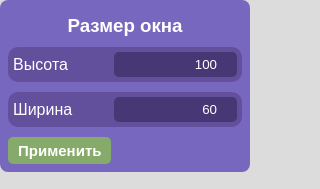
Test: Constructor: Size settings › another sizes can be applied - ui › apply new sizes
What coordinates should you click on to do the following:
click the button "Применить"
I would click on:
 (60, 150)
Its box is [8,137,112,164].
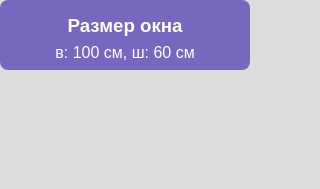
Result: the text "в: 100 см, ш: 60 см" is shown at [55,44,195,61]
